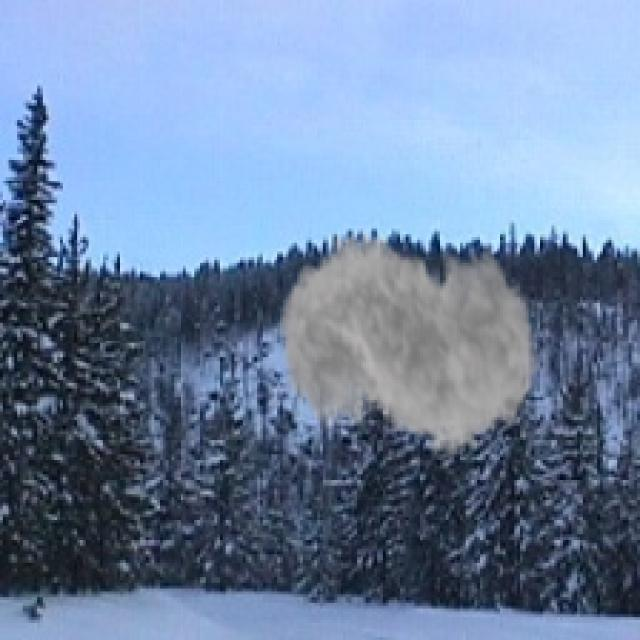Smoke: (277, 202, 540, 478)
